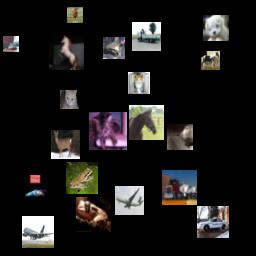airplane: (22, 216, 54, 248), (115, 186, 144, 215)
automobile: (197, 206, 229, 238), (25, 175, 47, 197)
bird: (167, 124, 193, 150)
cat: (89, 112, 127, 150), (128, 72, 150, 94), (60, 90, 79, 109)
deer: (51, 130, 80, 159)
dog: (203, 15, 229, 41)
frog: (76, 197, 111, 232), (66, 162, 98, 194), (103, 37, 125, 59)
ship: (3, 36, 19, 52)
truck: (162, 170, 197, 205), (132, 22, 161, 51)
